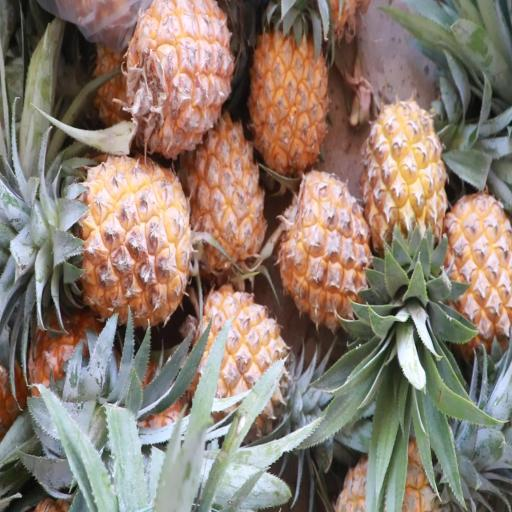Pineapple - v8 v1: (25, 152, 195, 330), (120, 0, 234, 163), (185, 280, 300, 438), (358, 96, 447, 293), (276, 166, 379, 336), (248, 2, 332, 186), (183, 101, 268, 278), (439, 187, 512, 375)
